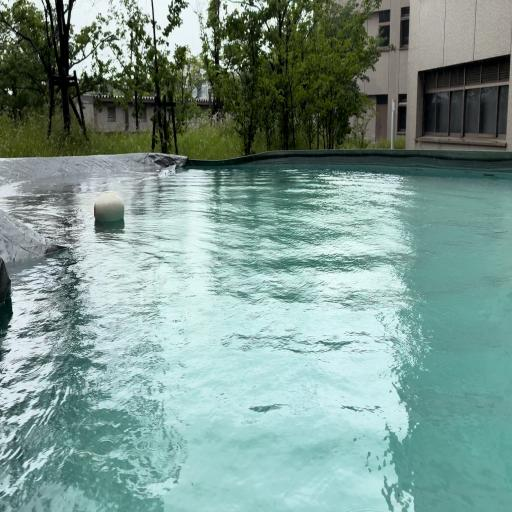white buoy: (94, 193, 124, 221)
